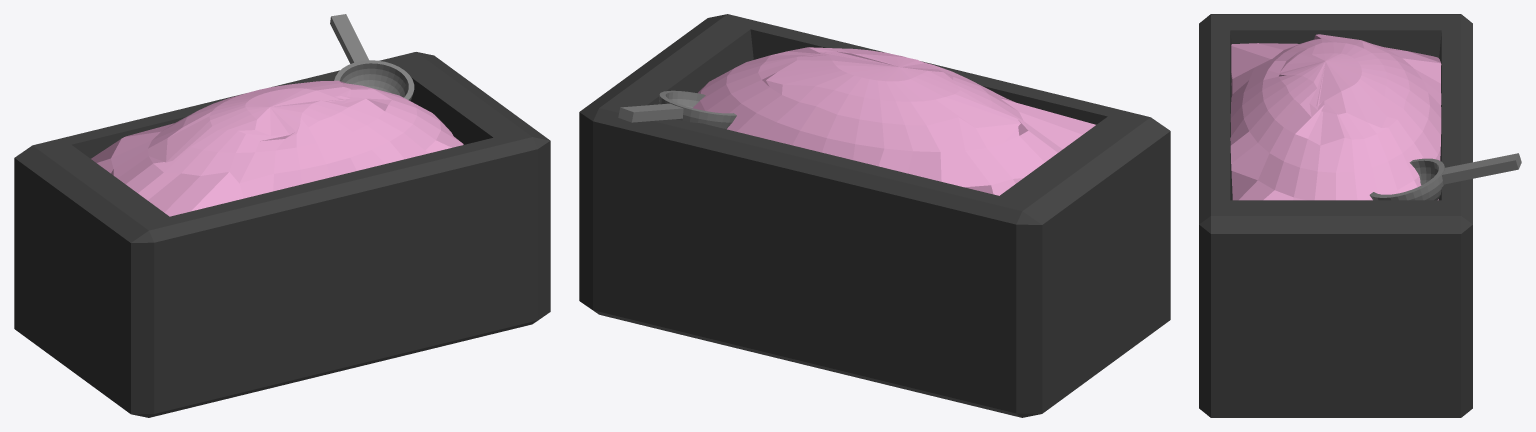
File: IceCreamTub.fbx
3 renders of one model, left to right at view 1: azimuth 30°, elevation 25°; view 2: azimuth 150°, elevation 25°; view 3: azimuth 270°, elevation 25°, orthographic. The views are drawn at different scales.
Parts seen in each view (by area): view 1: Cube, Sphere, Sphere.001, Cube.001; view 2: Cube, Sphere, Sphere.001, Cube.001; view 3: Cube, Sphere, Sphere.001, Cube.001.
Part boxes in pixels (box(x1,y1,x2,y2)): Cube: box(14, 52, 550, 417); Sphere: box(91, 80, 463, 216); Sphere.001: box(334, 60, 414, 100); Cube.001: box(330, 14, 368, 63); Cube: box(579, 14, 1170, 417); Sphere: box(693, 47, 1095, 195); Sphere.001: box(659, 90, 736, 129); Cube.001: box(618, 103, 683, 122); Cube: box(1199, 14, 1472, 417); Sphere: box(1230, 34, 1441, 200); Sphere.001: box(1369, 158, 1444, 200); Cube.001: box(1442, 153, 1521, 184).
Size of the model in its own units: 469 by 247 by 291.
